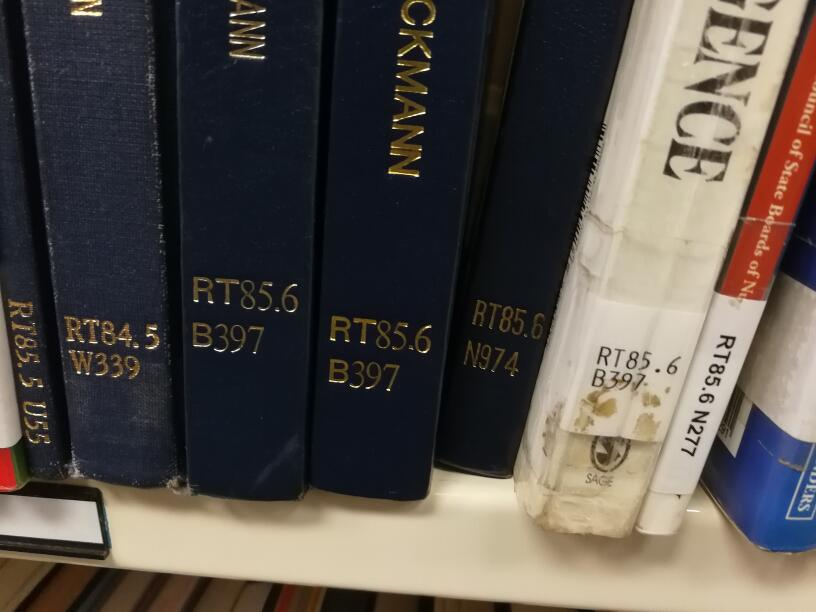booklabel: (185, 272, 303, 359), (323, 311, 437, 397), (681, 314, 741, 462), (3, 294, 55, 450), (460, 294, 547, 382), (62, 311, 162, 385), (589, 342, 686, 395)
